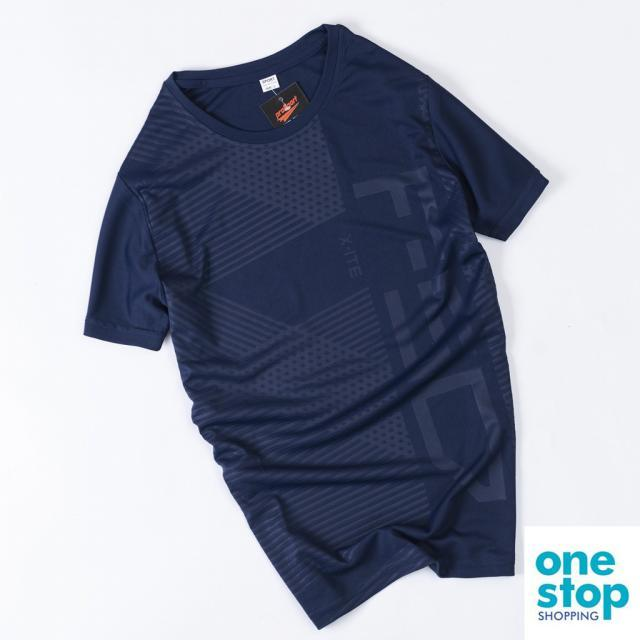Shirt: (74, 24, 548, 630)
